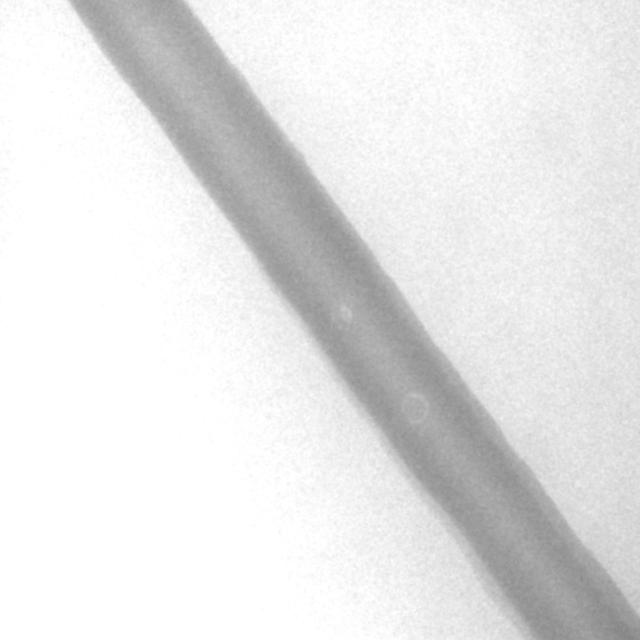hollow bead: (400, 392, 430, 427)
